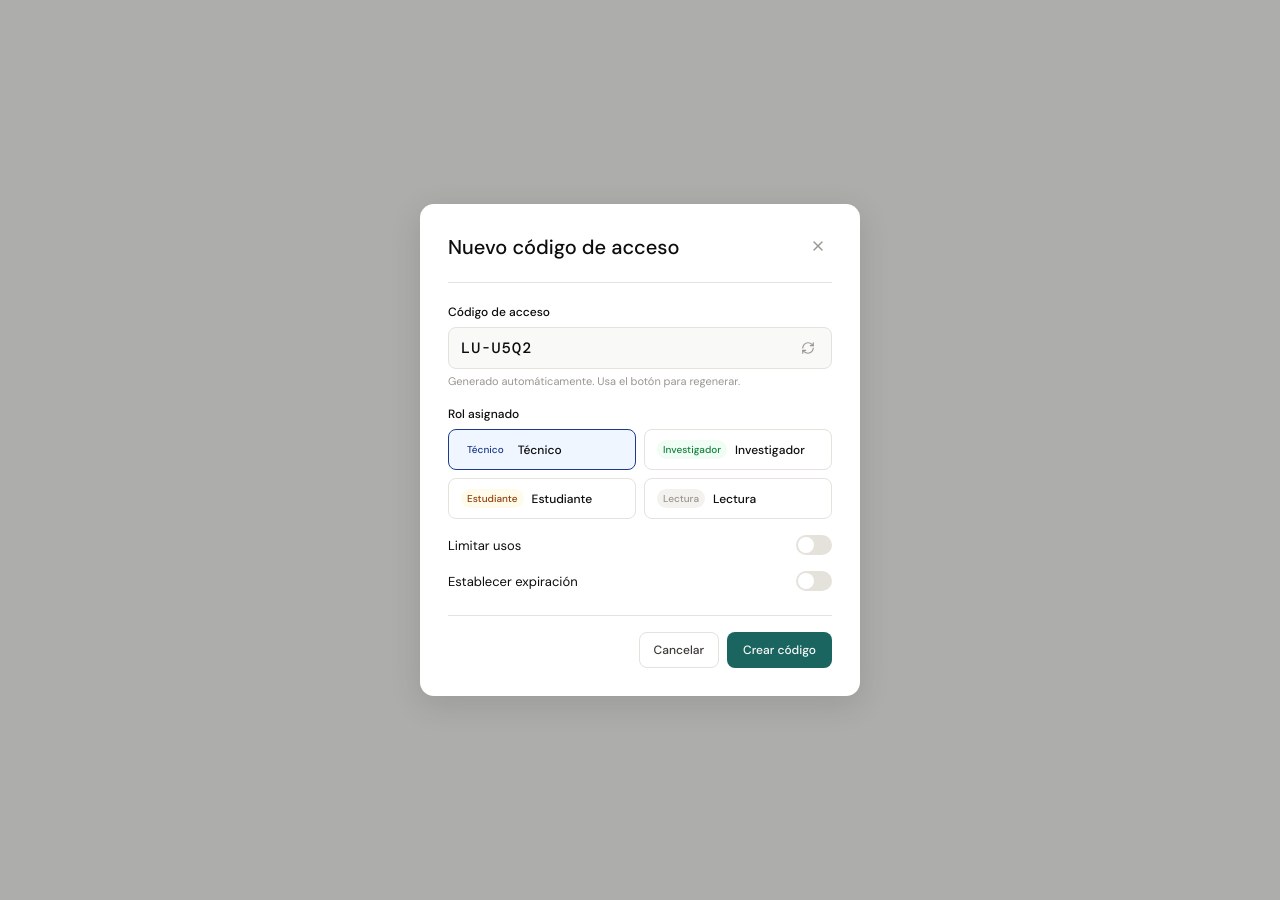
Scenario: GenerarCodigoModal — form submission › shows the success screen after creation
This screenshot has width=1280, height=900.
Check: the text "LU-U5Q2" is shown, box [461,338,532,358]
Step 1. Click the button "Crear código" → (780, 650), box [727,632,832,668]
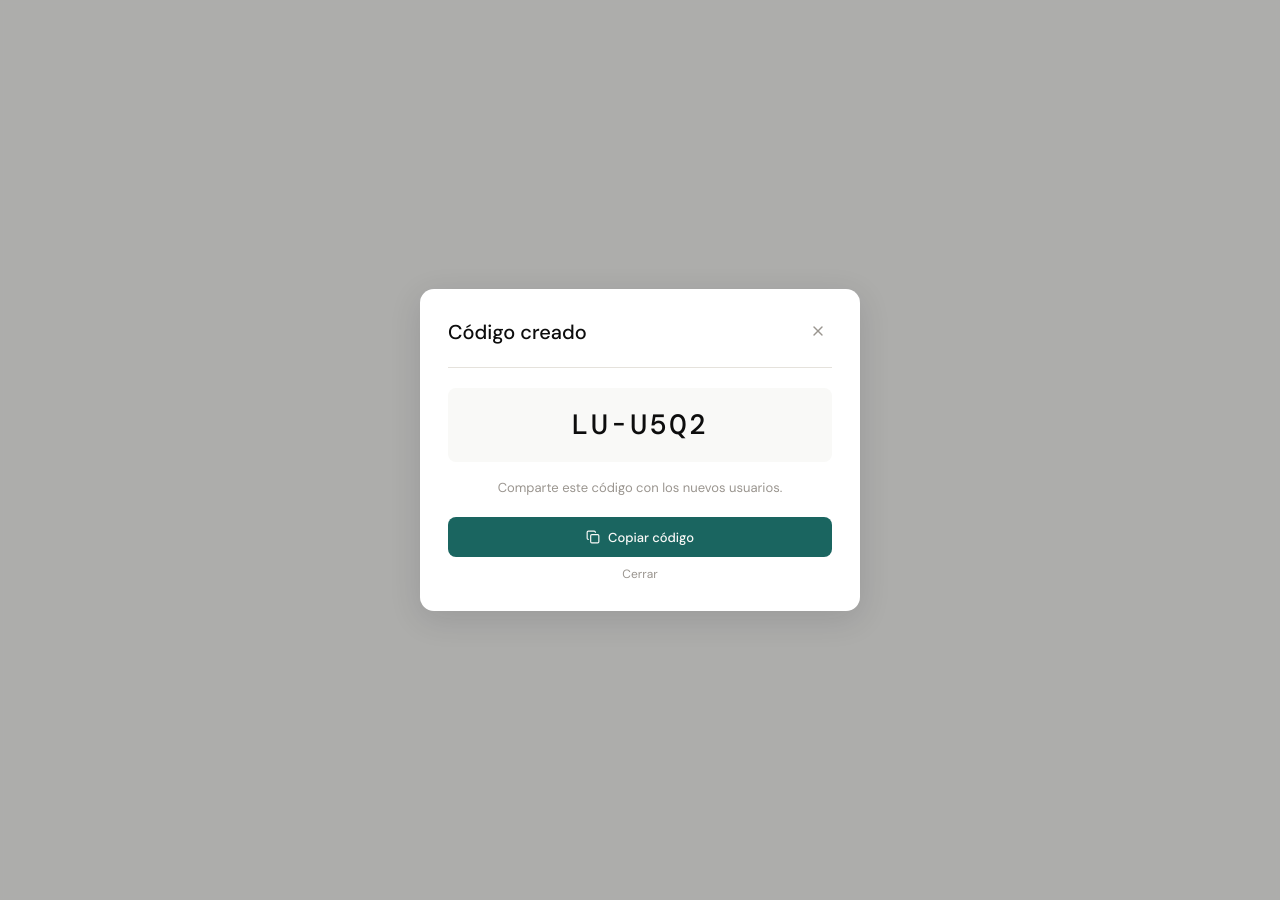
Check: the heading "Código creado" is shown, box [448,317,587,347]
